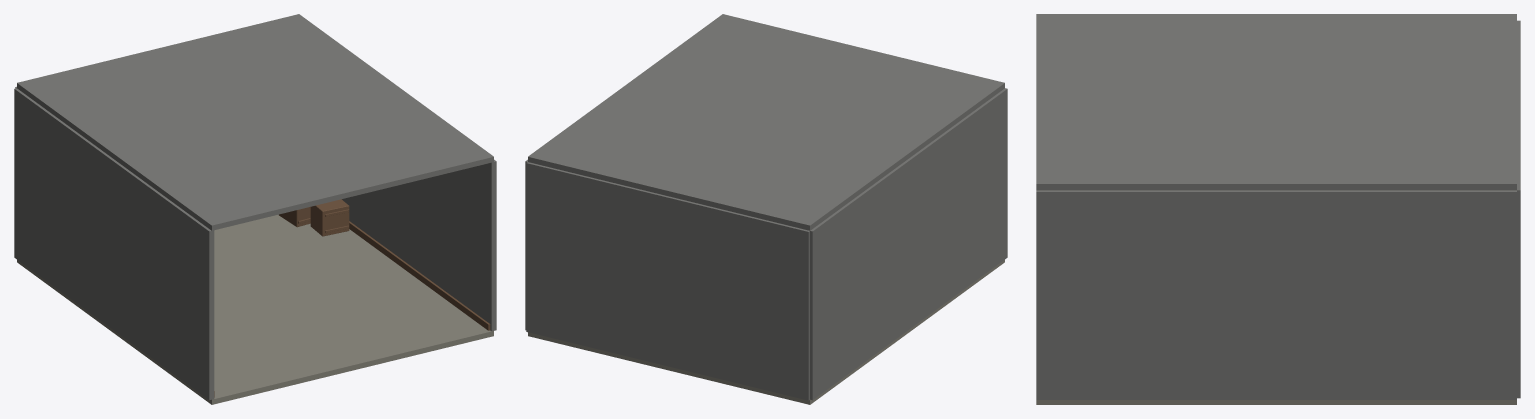
The model's file is room.glb.
3 views of the same model, side by side, from view 1: azimuth 30°, elevation 25°; view 2: azimuth 150°, elevation 25°; view 3: azimuth 270°, elevation 25° (orthographic). The views are drawn at different scales.
Parts seen in each view (by area): view 1: Ceiling, Walls, Floor, Crates; view 2: Walls, Ceiling, Floor; view 3: Walls, Ceiling, Floor.
Part boxes in pixels (left/top/right/bottom): Ceiling: left=17, top=14, right=493, bottom=230; Walls: left=14, top=86, right=496, bottom=400; Floor: left=17, top=214, right=493, bottom=404; Crates: left=279, top=199, right=349, bottom=236; Walls: left=525, top=88, right=1007, bottom=400; Ceiling: left=528, top=14, right=1004, bottom=230; Floor: left=528, top=260, right=1004, bottom=404; Walls: left=1036, top=20, right=1520, bottom=399; Ceiling: left=1036, top=14, right=1516, bottom=190; Floor: left=1036, top=400, right=1516, bottom=404.
Size of the model in its own units: 5.7 by 3.4 by 6.75.
